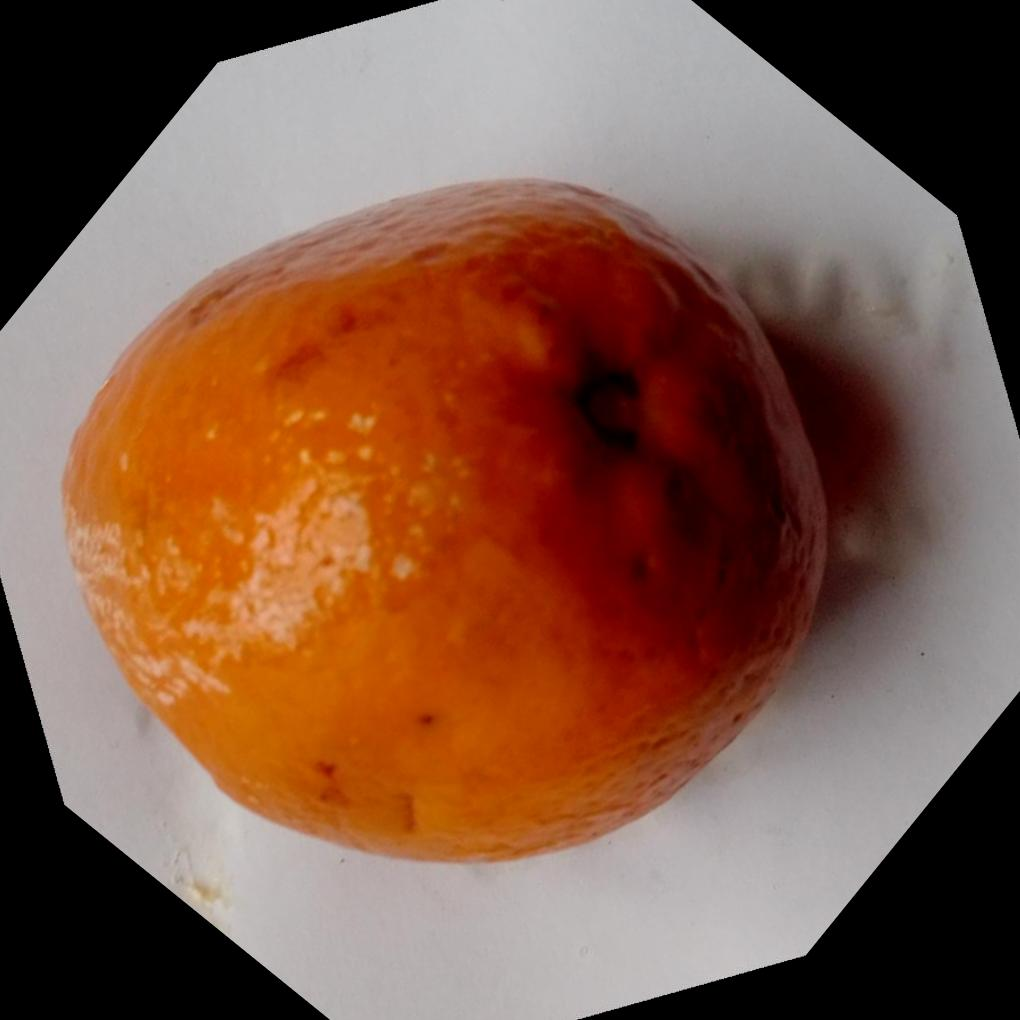FreshOrange: (55, 173, 835, 863)
